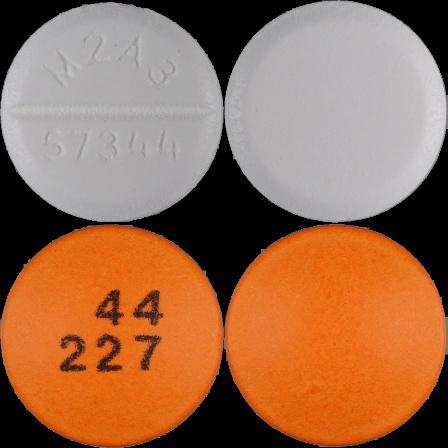57896-101: (0, 0, 224, 224)
